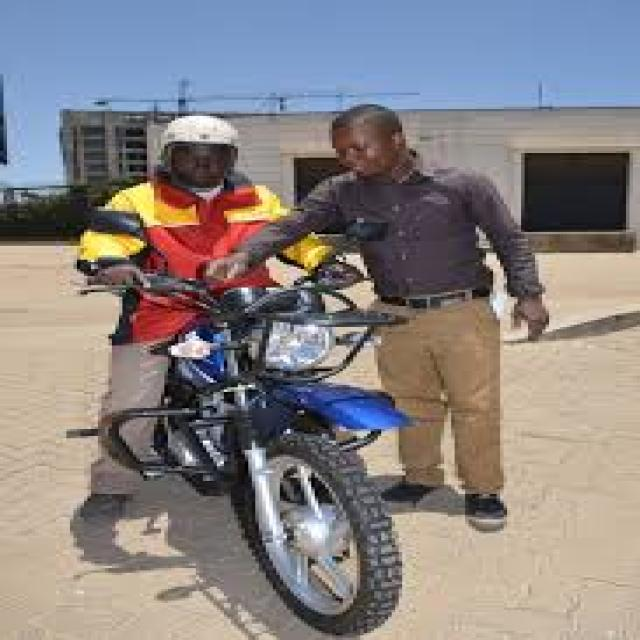bodaboda: (21, 150, 521, 640)
